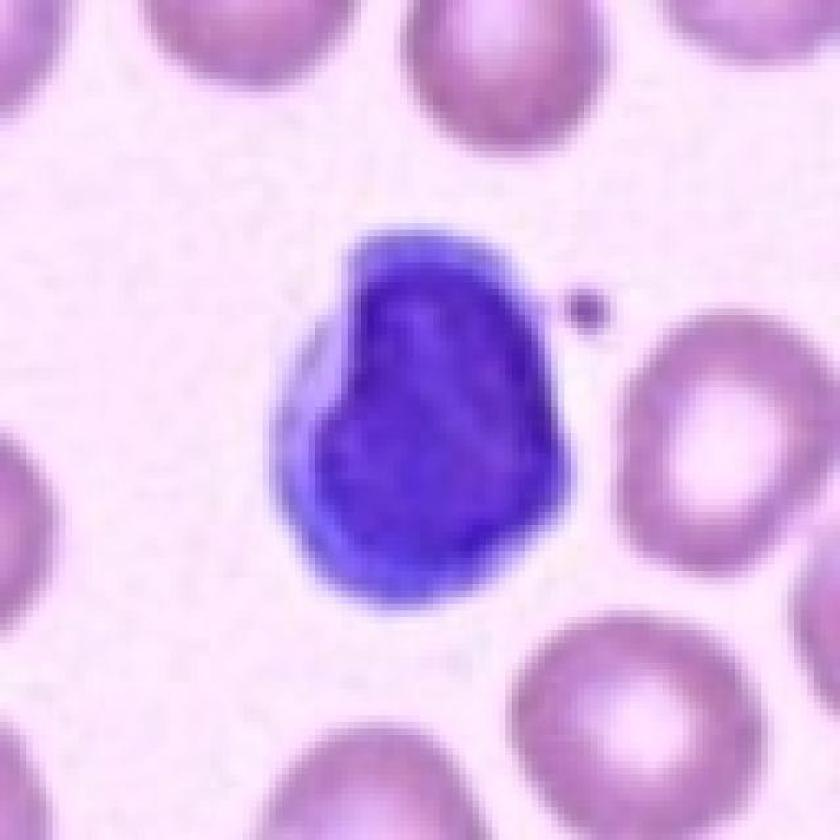lymphocyte: (258, 212, 585, 618)
